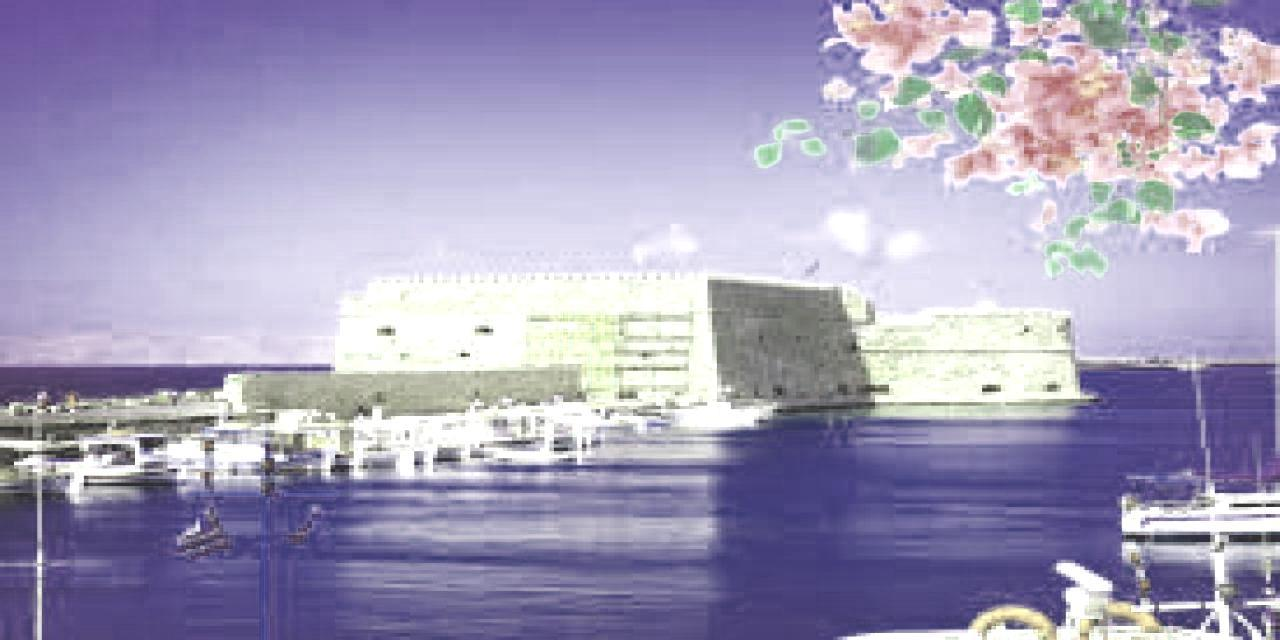Kules: (325, 258, 1104, 424)
